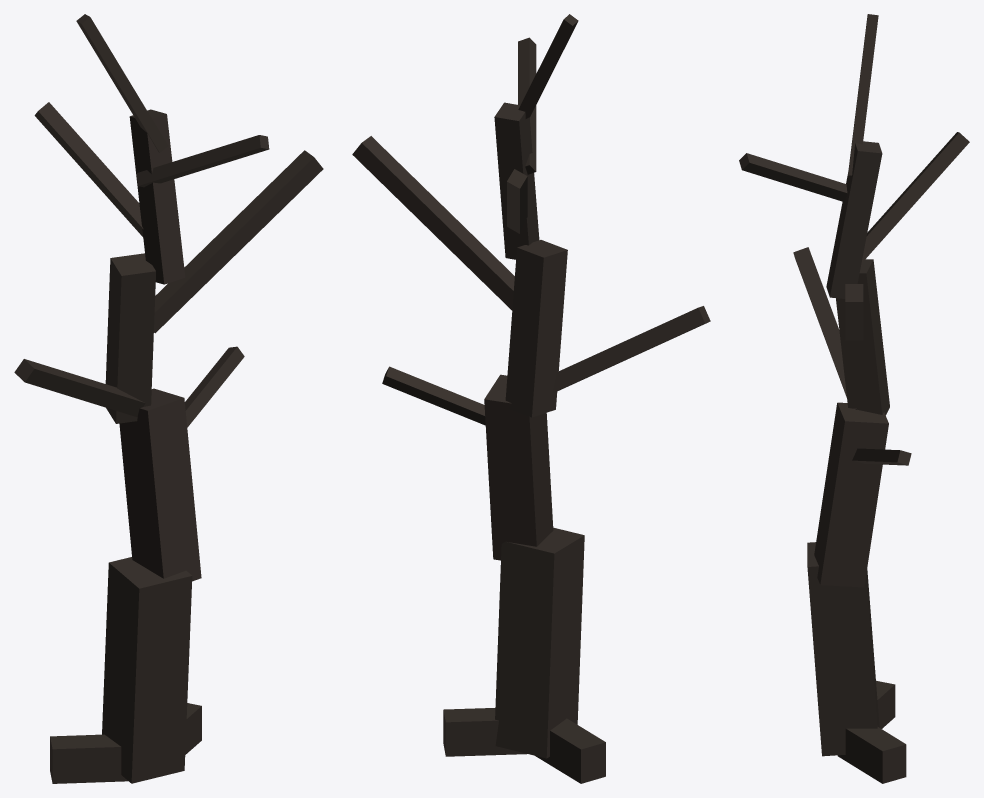
Rendered from dead-tree.glb.
3 views of the same model, side by side, from view 1: azimuth 30°, elevation 25°; view 2: azimuth 150°, elevation 25°; view 3: azimuth 270°, elevation 25° (orthographic). The views are drawn at different scales.
Visible parts, largest first — view 1: DeadTree; view 2: DeadTree; view 3: DeadTree.
Boxes of the visible parts, x1,y1,x2,y2 form: DeadTree: (14, 14, 323, 783); DeadTree: (352, 14, 710, 783); DeadTree: (739, 14, 969, 783).
Size of the model in its own units: 0.9882 by 2.19 by 0.6399.
Materials: 1 (1 with a texture image).
